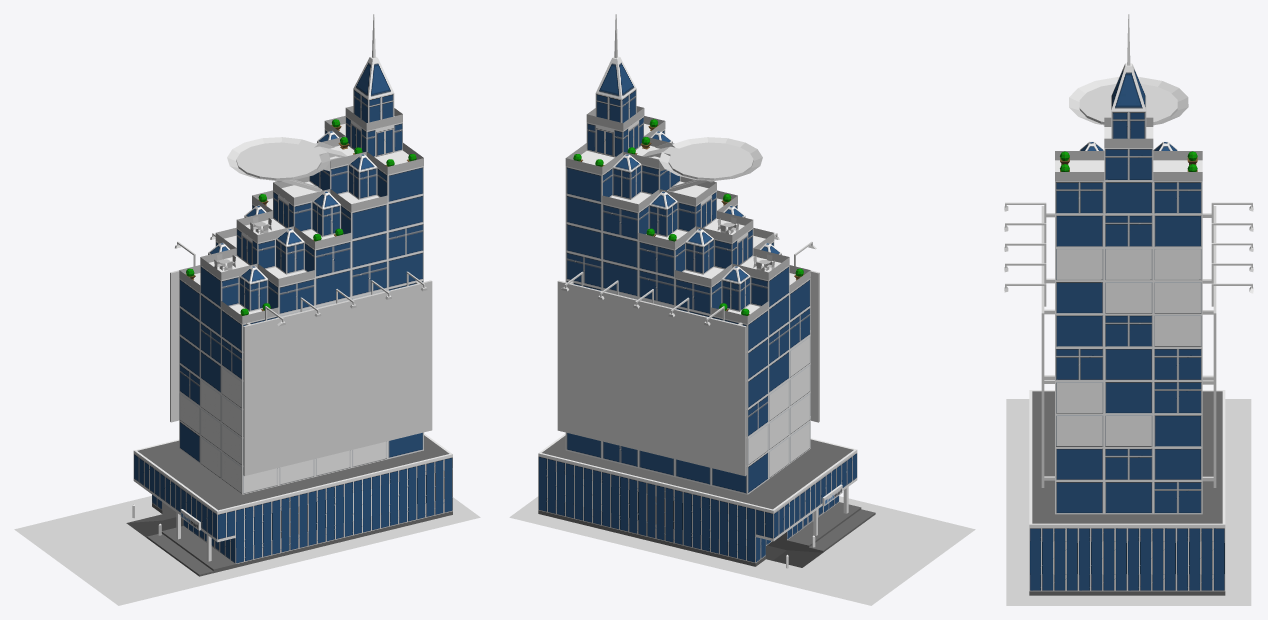
The model's file is Trade_Center_LV_HUGE.fbx.
3 views of the same model, side by side, from view 1: azimuth 30°, elevation 25°; view 2: azimuth 150°, elevation 25°; view 3: azimuth 270°, elevation 25° (orthographic). The views are drawn at different scales.
Visible parts, largest first — view 1: Trade_Center_Huge, Billboard_On_Huge_Poster_002, Trade_Center_BG_Huge, Border_Alpha_DoubleSided, Billboard_On_Huge_002, HelicopterPlace, Billboard_On_Huge_001, HelicopterPlace_Alpha_DoubleSided; view 2: Trade_Center_Huge, Billboard_On_Huge_Poster_001, Trade_Center_BG_Huge, Border_Alpha_DoubleSided, Billboard_On_Huge_001, HelicopterPlace, Billboard_On_Huge_002, HelicopterPlace_Alpha_DoubleSided; view 3: Trade_Center_Huge, Trade_Center_BG_Huge, Border_Alpha_DoubleSided, Billboard_On_Huge_001, Billboard_On_Huge_002, HelicopterPlace, HelicopterPlace_Alpha_DoubleSided.
Part boxes in pixels (x1,y1,x2,y2): Trade_Center_Huge: [126, 14, 452, 576]; Billboard_On_Huge_Poster_002: [247, 285, 428, 471]; Trade_Center_BG_Huge: [14, 496, 480, 605]; Border_Alpha_DoubleSided: [179, 106, 423, 323]; Billboard_On_Huge_002: [243, 271, 432, 475]; HelicopterPlace: [236, 142, 347, 191]; Billboard_On_Huge_001: [170, 233, 215, 422]; HelicopterPlace_Alpha_DoubleSided: [227, 137, 330, 180]; Trade_Center_Huge: [538, 14, 875, 568]; Billboard_On_Huge_Poster_001: [560, 285, 741, 471]; Trade_Center_BG_Huge: [509, 496, 975, 605]; Border_Alpha_DoubleSided: [565, 106, 810, 323]; Billboard_On_Huge_001: [557, 271, 746, 476]; HelicopterPlace: [642, 142, 753, 191]; Billboard_On_Huge_002: [774, 233, 819, 422]; HelicopterPlace_Alpha_DoubleSided: [659, 137, 762, 180]; Trade_Center_Huge: [1029, 14, 1225, 595]; Trade_Center_BG_Huge: [1006, 399, 1251, 605]; Border_Alpha_DoubleSided: [1055, 117, 1202, 181]; Billboard_On_Huge_001: [1202, 202, 1253, 487]; Billboard_On_Huge_002: [1004, 202, 1054, 487]; HelicopterPlace: [1079, 83, 1177, 124]; HelicopterPlace_Alpha_DoubleSided: [1069, 77, 1188, 125].
Bounding box in the file's own units: 4000 × 5114 × 2035.
